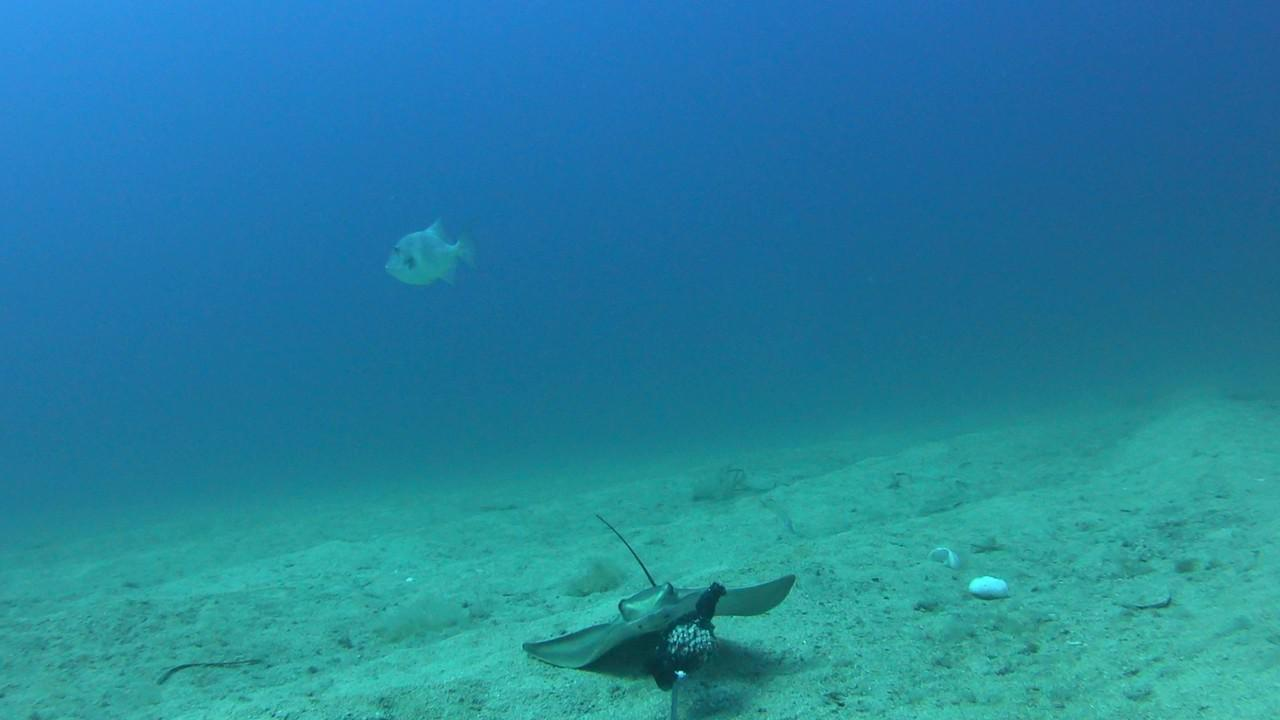balistes: (384, 216, 482, 288)
myliobatis: (503, 496, 803, 658)
